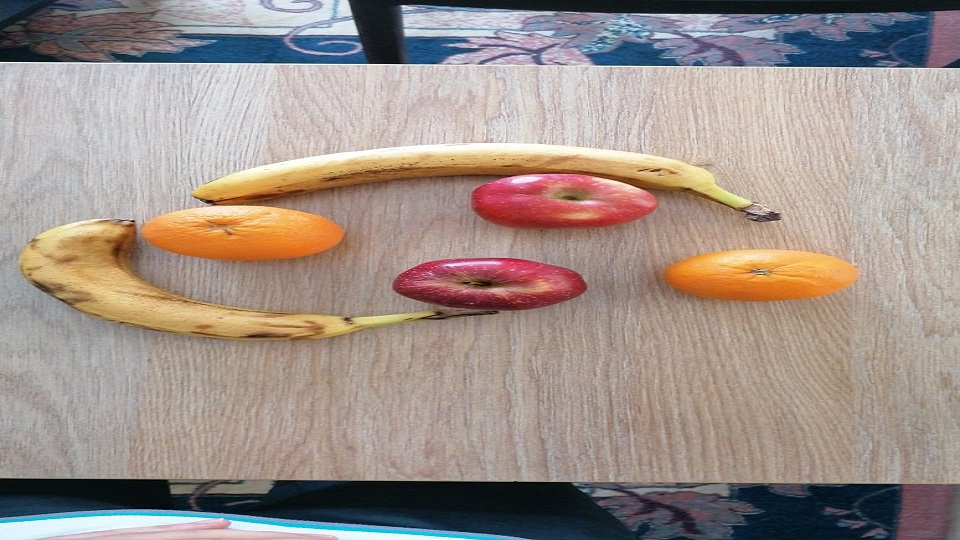elma: (470, 171, 659, 228), (393, 257, 587, 312)
muz: (19, 218, 445, 342), (193, 142, 775, 206)
portakal: (140, 204, 346, 263), (664, 248, 859, 301)
